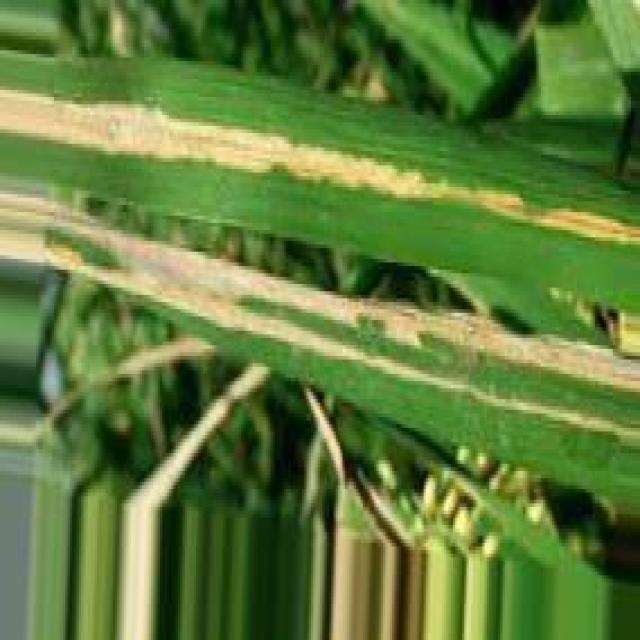Bacterial_Leaf_Blight: (0, 192, 640, 446), (0, 89, 640, 242)
